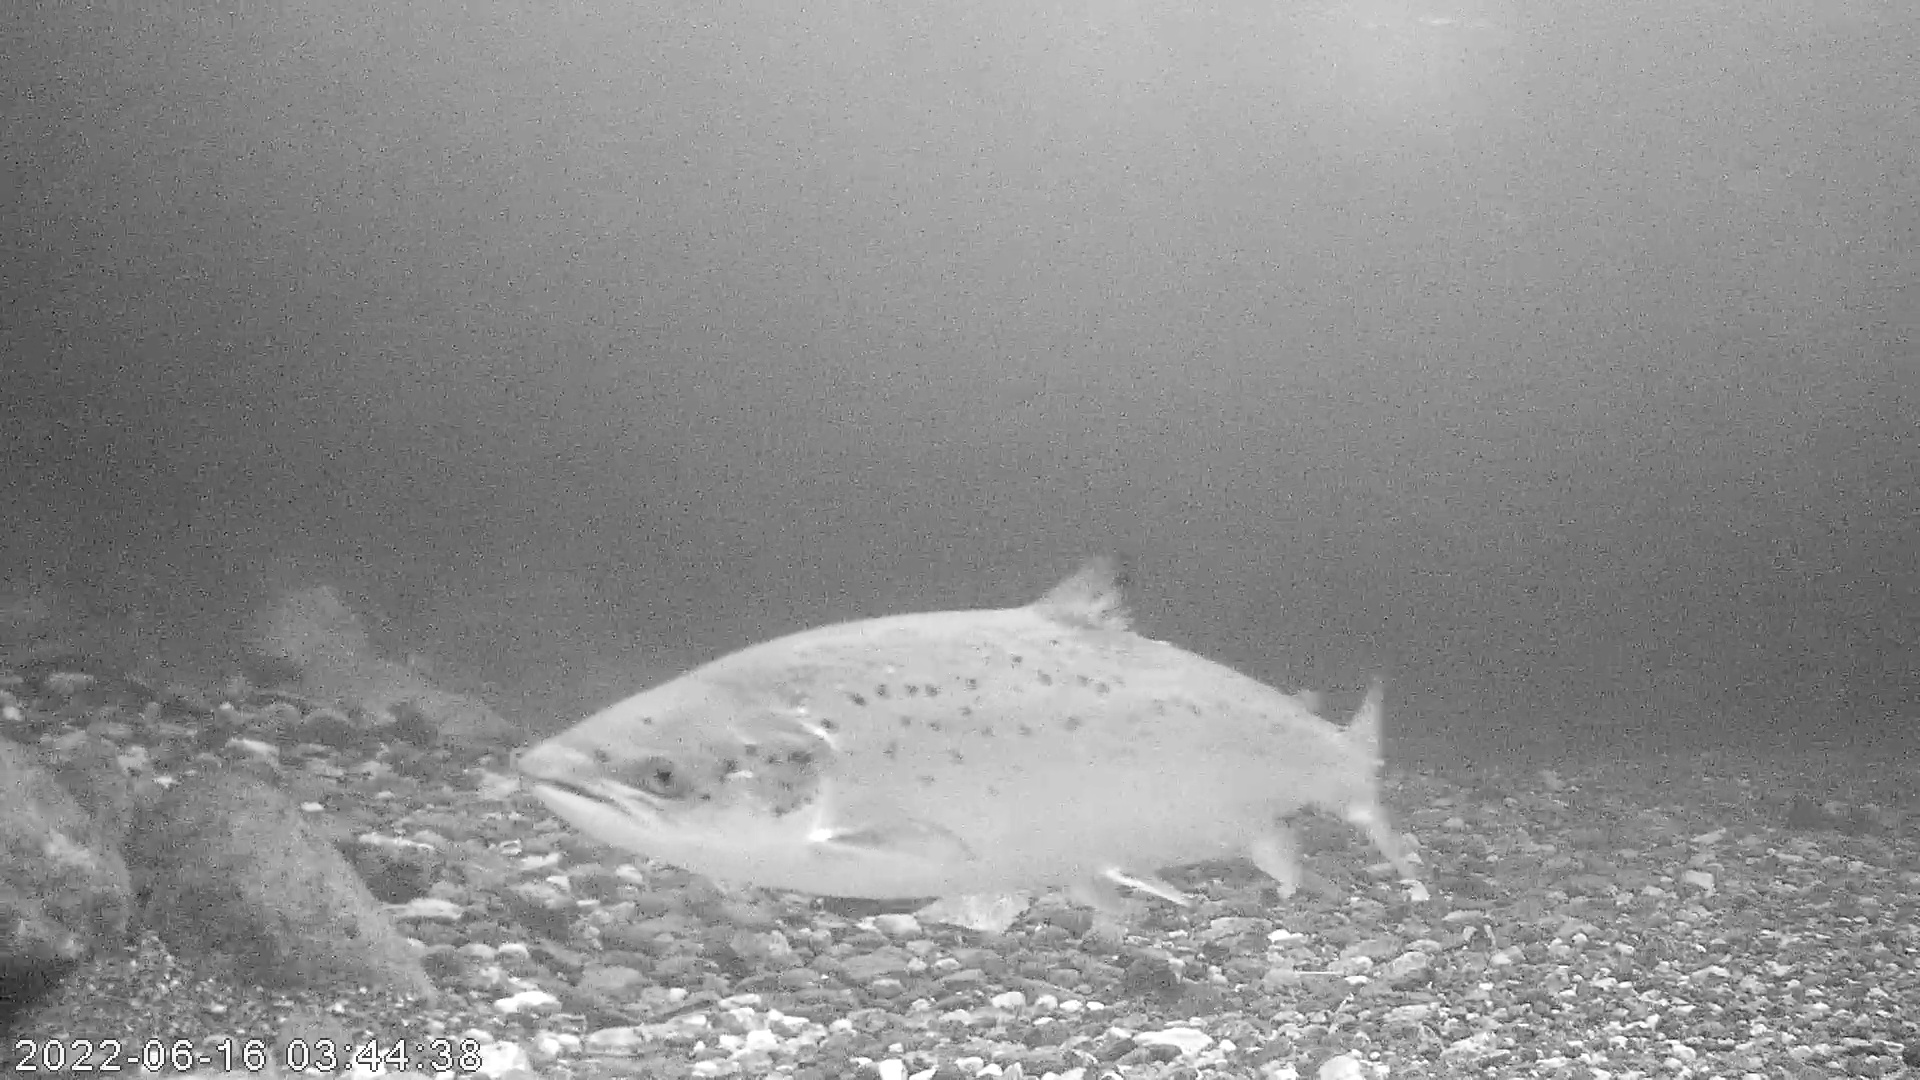salmon: (518, 549, 1418, 905)
